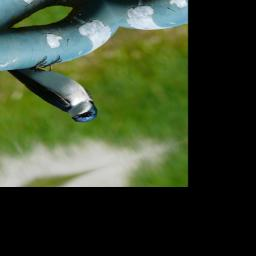Swallow: (5, 49, 107, 136)
